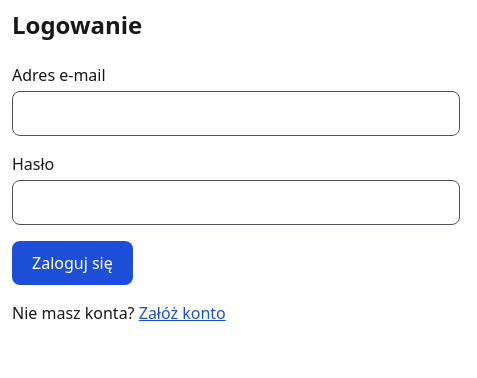
it: ekran logowania › INVALID_CREDENTIALS pokazuje komunikat serwera w alercie formularza
In the field with id "email": (236, 113) [12,91,460,136], type "anna@example.com"
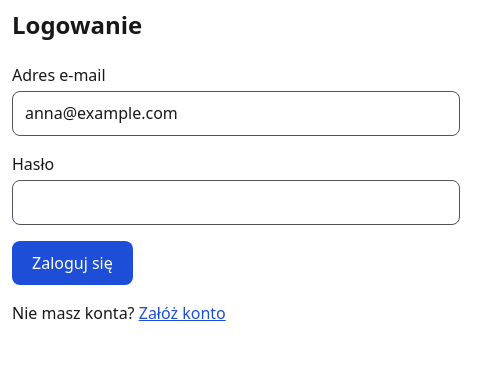
In the password field labelled "Hasło": (236, 203) [12,180,460,225], type "haslo1234"
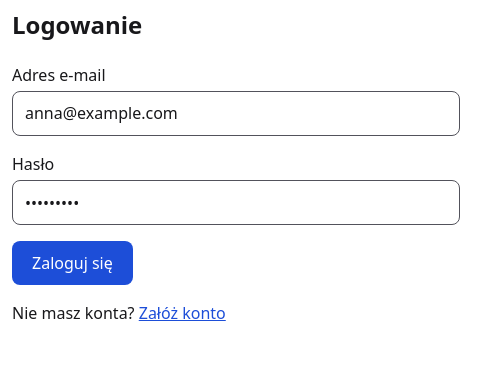
Submit the form, box [12,63,460,285]
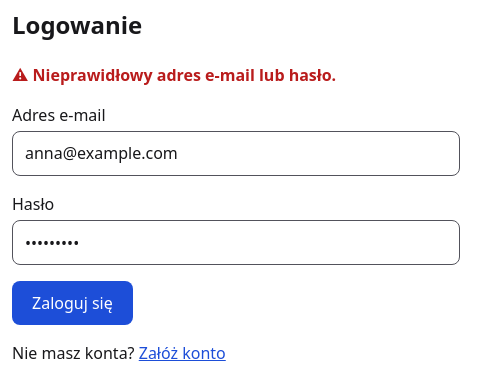
Expected: the message with test id "form-error" reads "Nieprawidłowy adres e-mail lub hasło.", [33,64,336,86]
